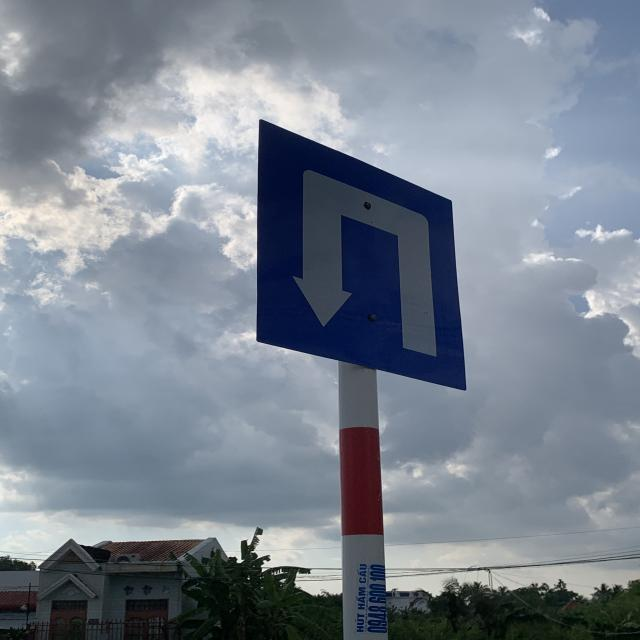Den_Giao_Thong: (252, 116, 465, 396)
